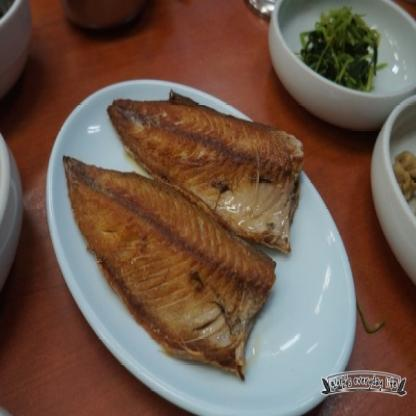Peixe: (67, 98, 319, 380)
